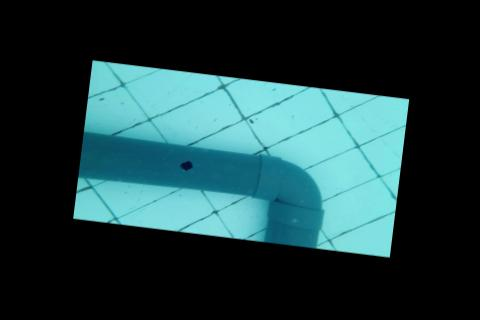kebocoran: (178, 158, 193, 173)
